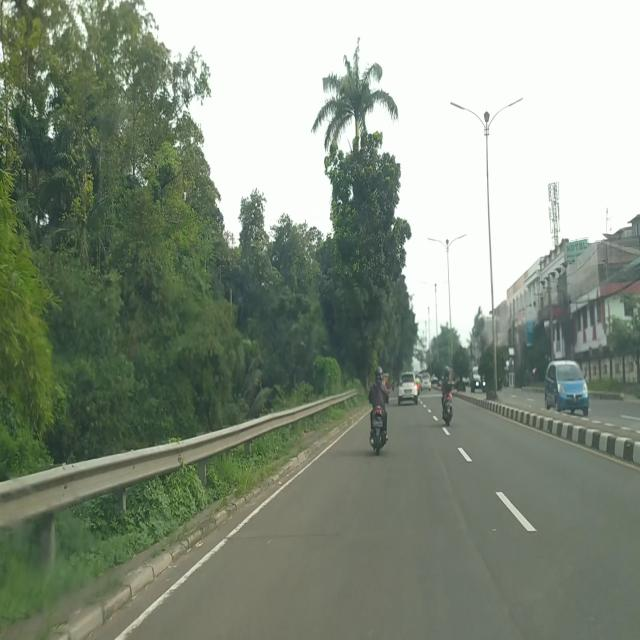Sewer Cover: (222, 530, 344, 544)
